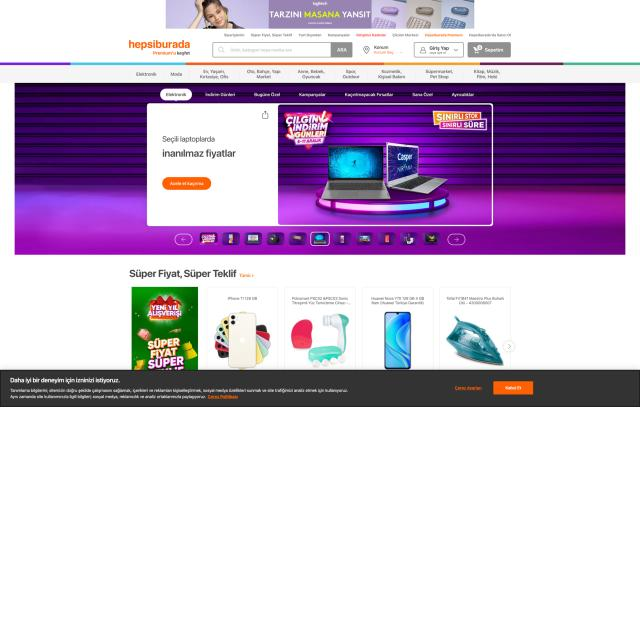input: (212, 42, 353, 58)
logo: (126, 36, 194, 58)
navigation: (127, 66, 507, 83), (160, 87, 478, 102), (220, 30, 514, 40)
